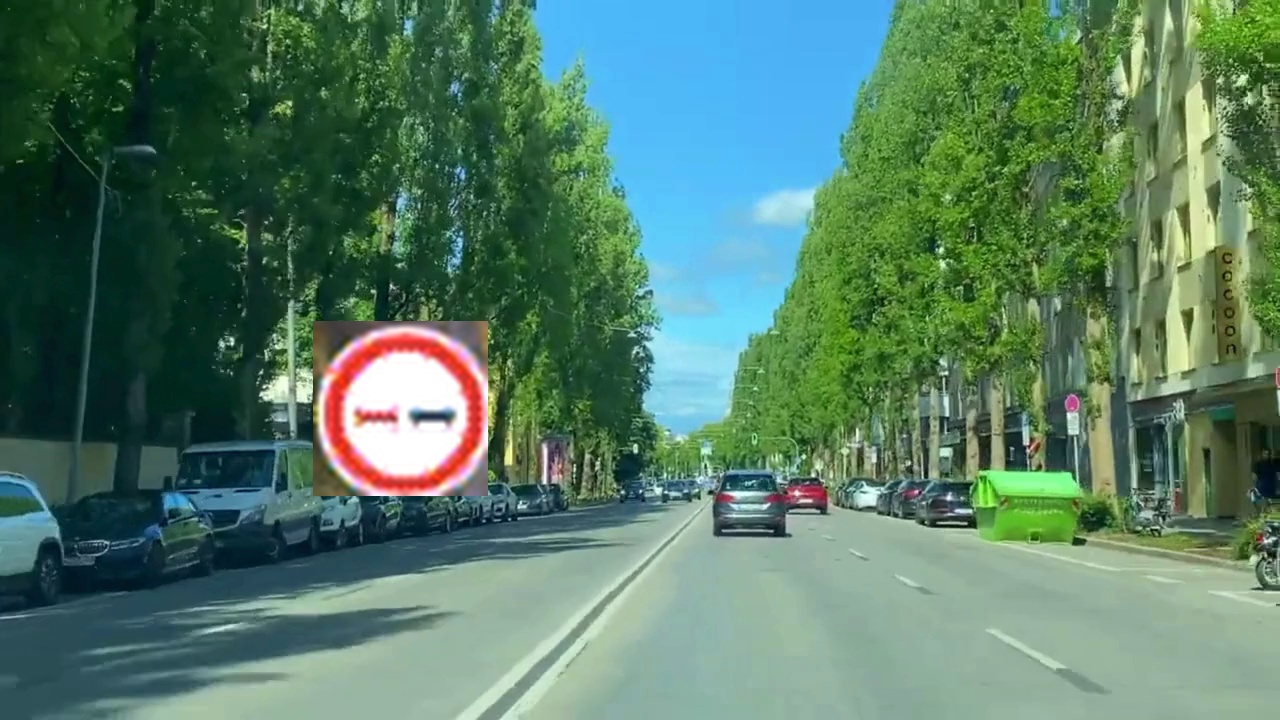No passing: (313, 321, 488, 496)
